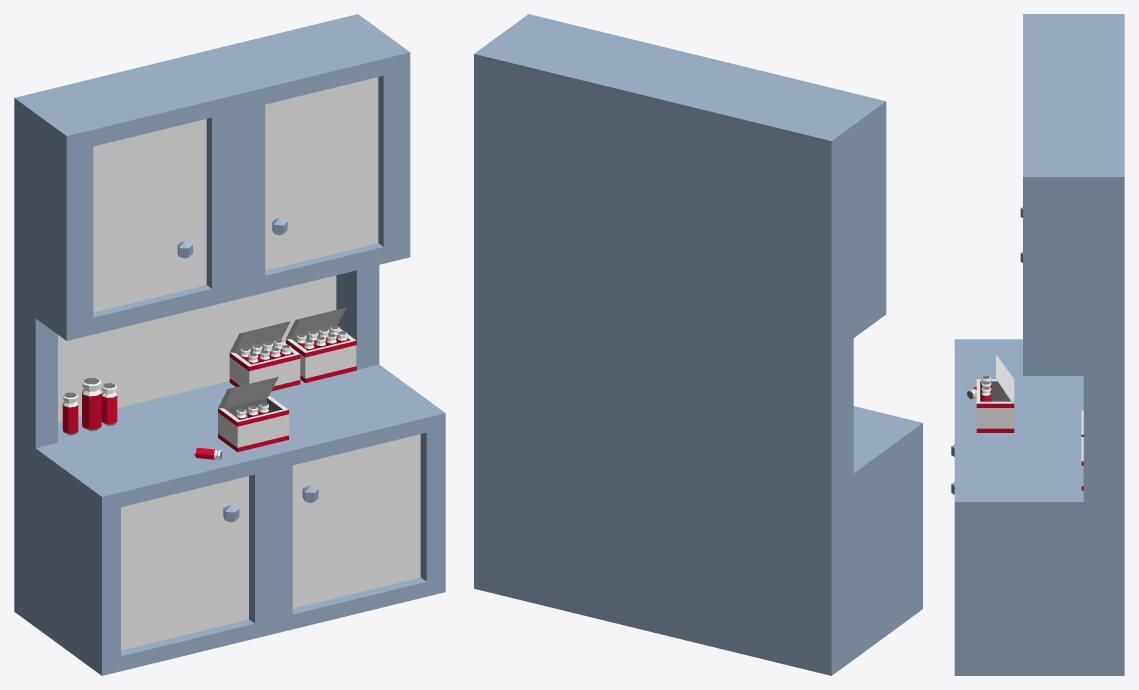
The model's file is Cabbinet.fbx.
3 views of the same model, side by side, from view 1: azimuth 30°, elevation 25°; view 2: azimuth 150°, elevation 25°; view 3: azimuth 270°, elevation 25° (orthographic). The views are drawn at different scales.
Visible parts, largest first — view 1: Cube; view 2: Cube; view 3: Cube.
Part boxes in pixels (bbox=[...]): Cube: bbox=[14, 14, 445, 675]; Cube: bbox=[474, 14, 922, 675]; Cube: bbox=[951, 14, 1124, 675].
Size of the model in its own units: 167 by 238 by 75.08.
